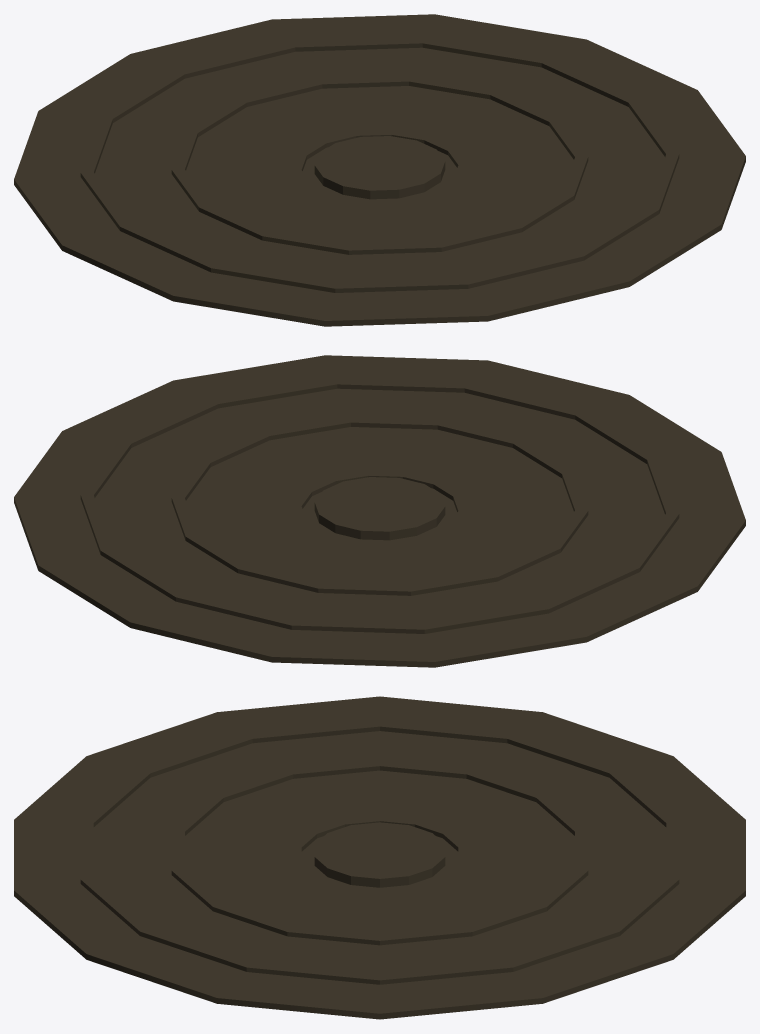
The model's file is Props8.fbx.
The picture shows the model from 3 angles, top to bottom: view 1: azimuth 30°, elevation 25°; view 2: azimuth 150°, elevation 25°; view 3: azimuth 270°, elevation 25°; orthographic projection. The views are drawn at different scales.
Parts seen in each view (by area): view 1: Props8; view 2: Props8; view 3: Props8.
Part boxes in pixels (box(x1,y1,x2,y2)): Props8: box(14, 14, 745, 326); Props8: box(14, 355, 745, 667); Props8: box(14, 696, 745, 1019).
Bounding box in the file's own units: 2.3 × 0.0345 × 2.24.
